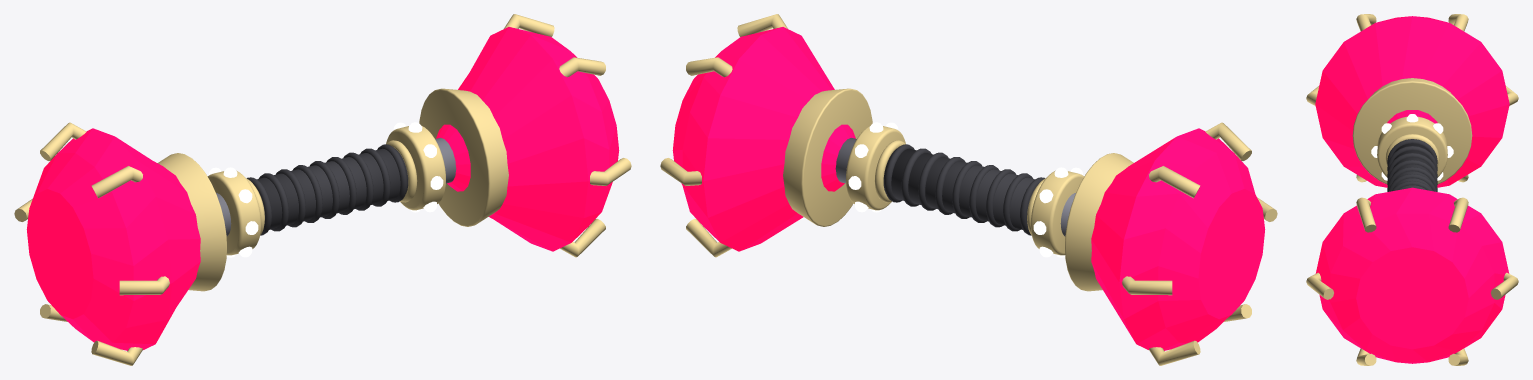
Rendered from dm_ruby400kg.glb.
3 views of the same model, side by side, from view 1: azimuth 30°, elevation 25°; view 2: azimuth 150°, elevation 25°; view 3: azimuth 270°, elevation 25° (orthographic). The views are drawn at different scales.
Parts seen in each view (by area): view 1: Ruby400kg_Gem, Ruby400kg_Gem.001, Ruby400kg_Cup.001, Ruby400kg_Grip, Ruby400kg_Cup, Ruby400kg_InnerCollar.001, Ruby400kg_InnerCollar, Ruby400kg_Bar, Ruby400kg_Prong.003, Ruby400kg_Prong.002, Ruby400kg_Prong.004, Ruby400kg_Prong.001 (+13 smaller); view 2: Ruby400kg_Gem, Ruby400kg_Gem.001, Ruby400kg_Cup.001, Ruby400kg_Grip, Ruby400kg_Cup, Ruby400kg_InnerCollar.001, Ruby400kg_InnerCollar, Ruby400kg_Bar, Ruby400kg_Prong, Ruby400kg_Prong.001, Ruby400kg_Prong.005, Ruby400kg_Prong.002 (+13 smaller); view 3: Ruby400kg_Gem.001, Ruby400kg_Gem, Ruby400kg_Cup, Ruby400kg_InnerCollar, Ruby400kg_Grip, Ruby400kg_Prong.007, Ruby400kg_Prong.008, Ruby400kg_Prong.006, Ruby400kg_Prong.009, Ruby400kg_GripEnd, Ruby400kg_GripRing.001, Ruby400kg_GripRing (+9 smaller).
Part boxes in pixels (bbox=[...]): Ruby400kg_Gem: bbox=[26, 128, 200, 350]; Ruby400kg_Gem.001: bbox=[436, 27, 619, 251]; Ruby400kg_Cup.001: bbox=[419, 88, 508, 226]; Ruby400kg_Grip: bbox=[256, 148, 408, 229]; Ruby400kg_Cup: bbox=[157, 153, 226, 291]; Ruby400kg_InnerCollar.001: bbox=[386, 125, 445, 210]; Ruby400kg_InnerCollar: bbox=[207, 170, 261, 255]; Ruby400kg_Bar: bbox=[216, 138, 456, 236]; Ruby400kg_Prong.003: bbox=[119, 276, 169, 295]; Ruby400kg_Prong.002: bbox=[91, 166, 142, 198]; Ruby400kg_Prong.004: bbox=[91, 340, 142, 365]; Ruby400kg_Prong.001: bbox=[40, 122, 86, 160]; Ruby400kg_Gem: bbox=[1091, 128, 1265, 350]; Ruby400kg_Gem.001: bbox=[672, 27, 855, 251]; Ruby400kg_Cup.001: bbox=[783, 88, 872, 226]; Ruby400kg_Grip: bbox=[883, 148, 1035, 229]; Ruby400kg_Cup: bbox=[1065, 153, 1133, 291]; Ruby400kg_InnerCollar.001: bbox=[846, 125, 905, 210]; Ruby400kg_InnerCollar: bbox=[1030, 170, 1084, 255]; Ruby400kg_Bar: bbox=[835, 138, 1075, 236]; Ruby400kg_Prong: bbox=[1122, 276, 1172, 295]; Ruby400kg_Prong.001: bbox=[1149, 166, 1200, 198]; Ruby400kg_Prong.005: bbox=[1149, 340, 1200, 365]; Ruby400kg_Prong.002: bbox=[1205, 122, 1251, 160]; Ruby400kg_Gem.001: bbox=[1315, 187, 1509, 363]; Ruby400kg_Gem: bbox=[1315, 16, 1509, 187]; Ruby400kg_Cup: bbox=[1352, 78, 1472, 184]; Ruby400kg_InnerCollar: bbox=[1377, 116, 1447, 177]; Ruby400kg_Grip: bbox=[1392, 143, 1432, 190]; Ruby400kg_Prong.007: bbox=[1448, 197, 1468, 232]; Ruby400kg_Prong.008: bbox=[1356, 197, 1376, 232]; Ruby400kg_Prong.006: bbox=[1491, 272, 1518, 299]; Ruby400kg_Prong.009: bbox=[1306, 272, 1333, 299]; Ruby400kg_GripEnd: bbox=[1385, 134, 1439, 166]; Ruby400kg_GripRing.001: bbox=[1387, 146, 1437, 171]; Ruby400kg_GripRing: bbox=[1387, 139, 1437, 164].
Bounding box in the file's own units: 3.62 × 1.37 × 1.5.
